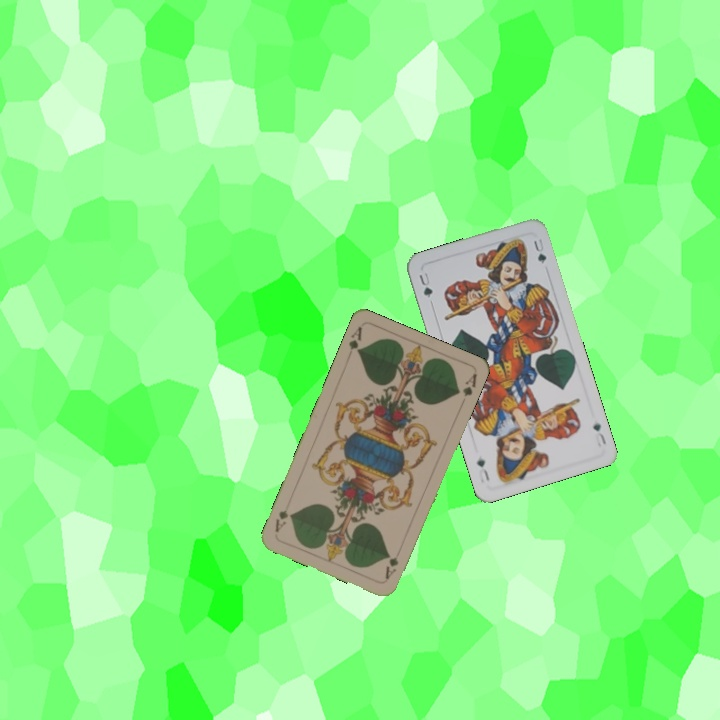GA: (381, 544, 404, 582), (344, 322, 365, 357)
GU: (415, 268, 435, 301), (589, 418, 609, 447)
